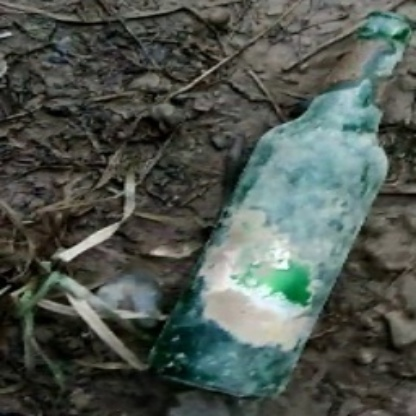bottle: (146, 16, 416, 398)
